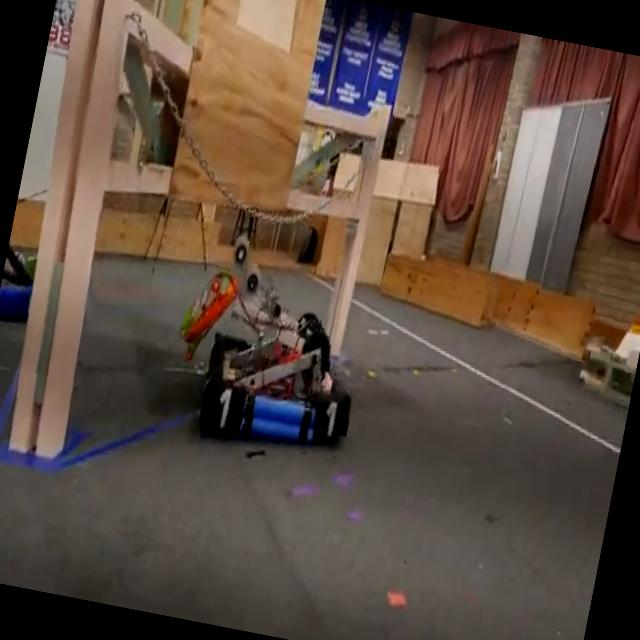note: (185, 283, 236, 344)
